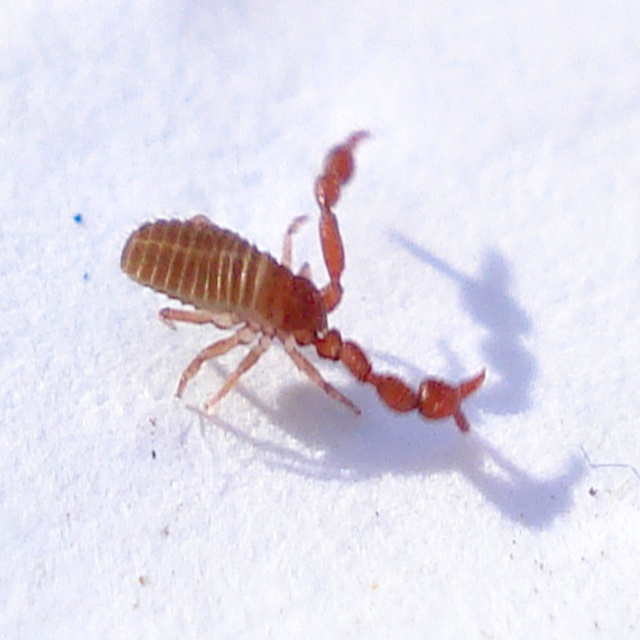Scorpion: (116, 124, 489, 437)
